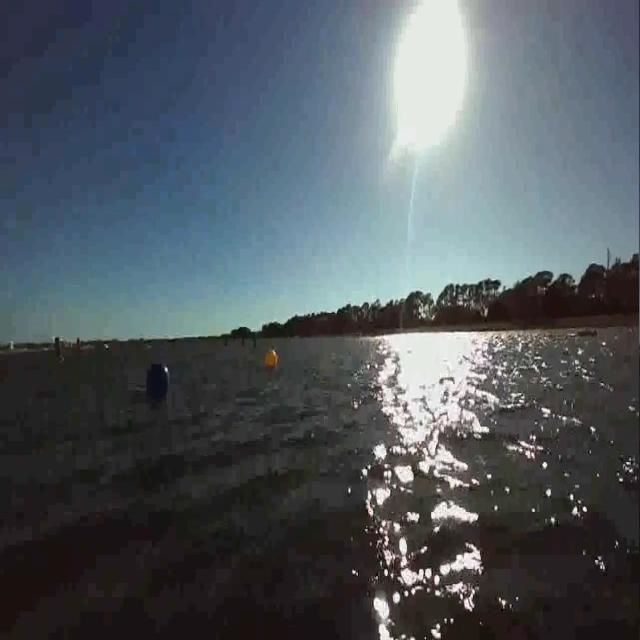blue-buoy: (147, 362, 170, 396)
yellow-buoy: (266, 349, 280, 369)
